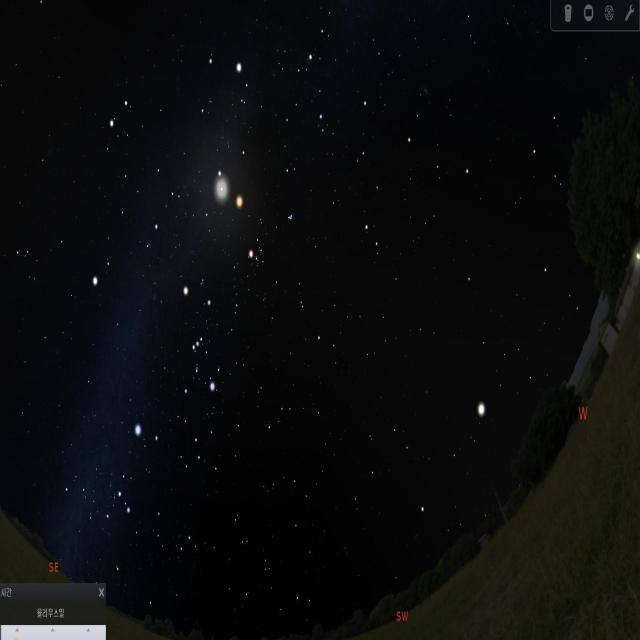canis_major: (114, 417, 162, 522)
canis_minor: (86, 244, 120, 296)
gemini: (105, 92, 184, 238)
moon: (208, 162, 236, 212)
orion: (171, 272, 221, 396)
pleiades: (282, 205, 298, 232)
taurus: (247, 188, 303, 291)
